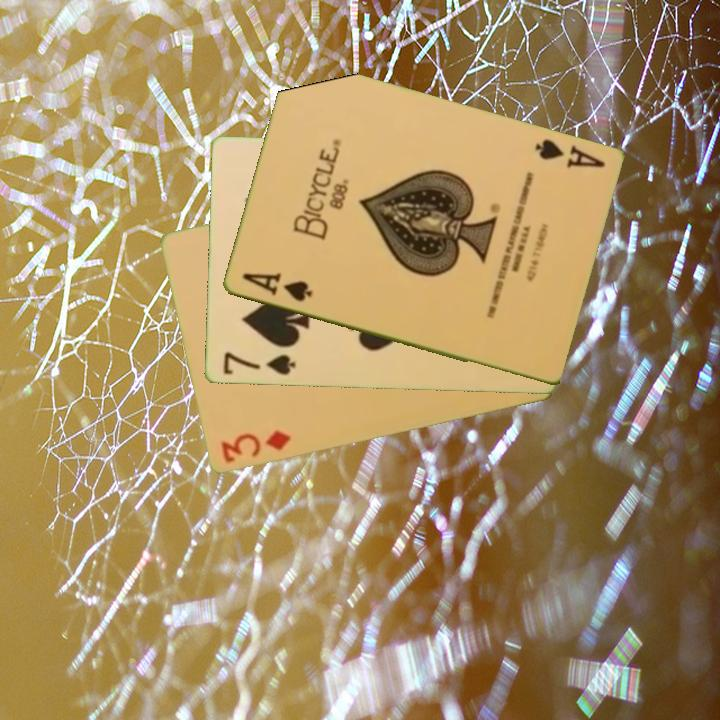3d: (217, 427, 294, 466)
7s: (219, 348, 298, 378)
As: (237, 269, 315, 305), (530, 135, 607, 171)
